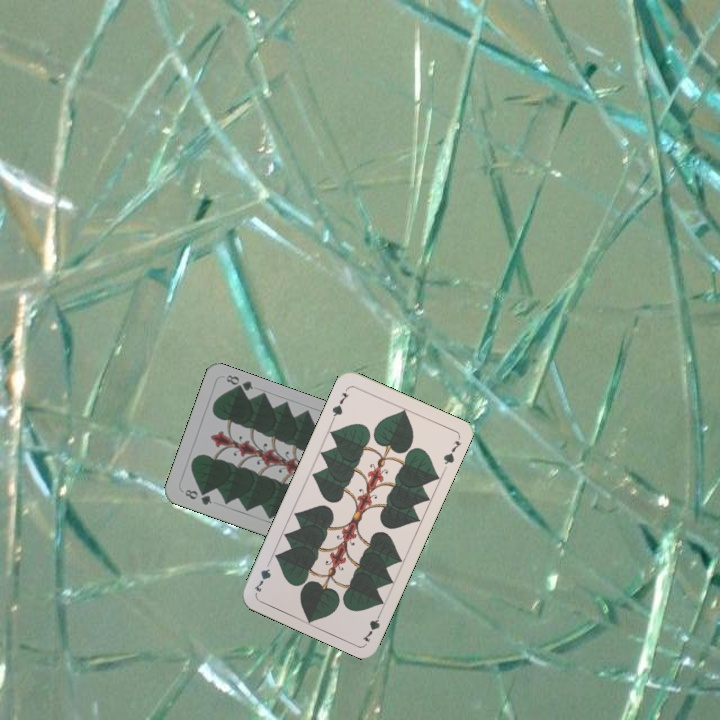G7: (358, 606, 385, 645), (328, 384, 352, 423)
G8: (180, 485, 214, 508)
